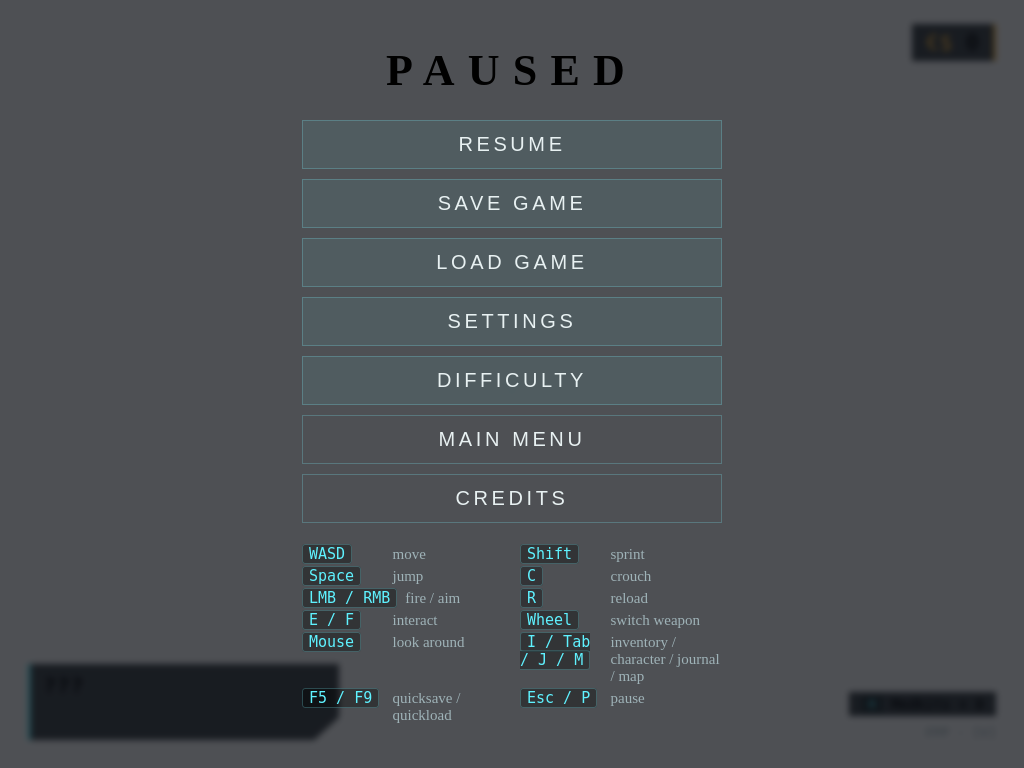
Test: credits › opens from the pause menu and goes back to it
This screenshot has width=1024, height=768.
Click the button "Credits".
click(512, 498)  # box [302,474,722,522]
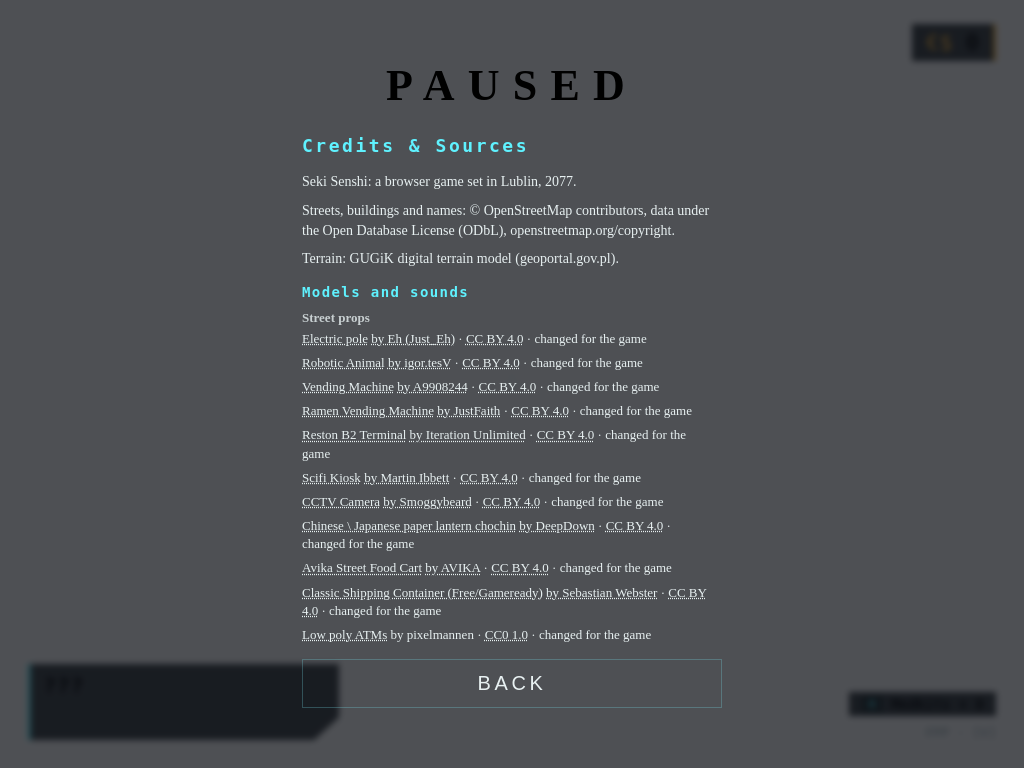
Click the button "Back".
click(512, 683)  # box [302,659,722,708]
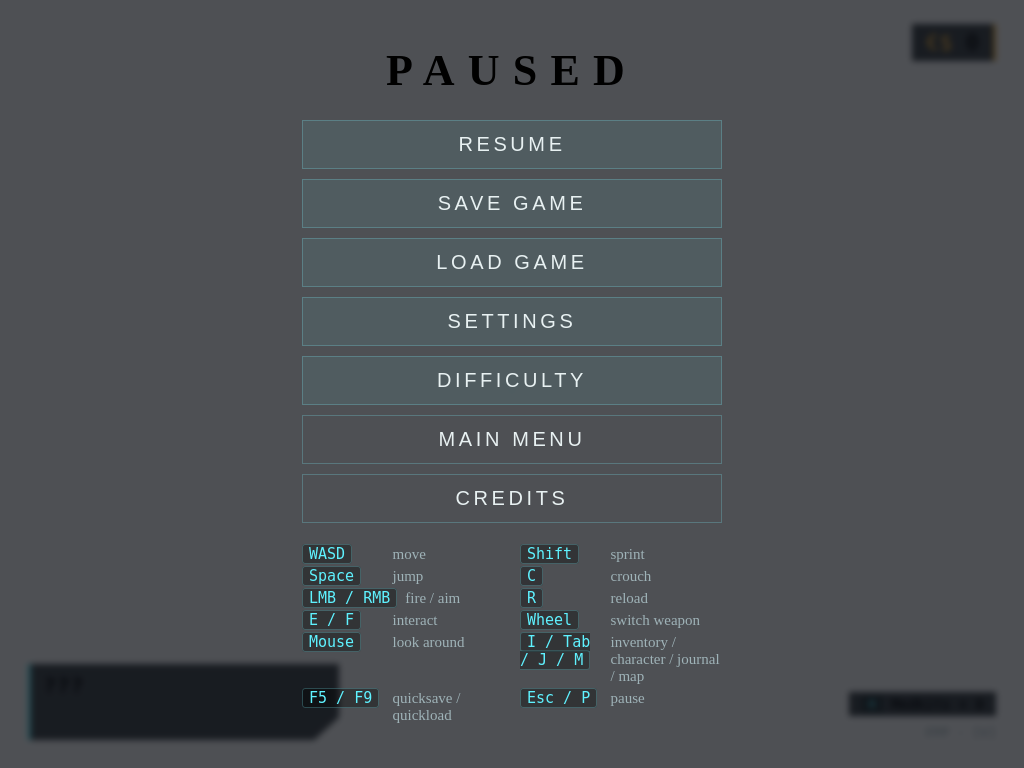
Expected: the element with test id "credits" is gone
Expected: the button "Resume" is shown, [302,120,722,168]
